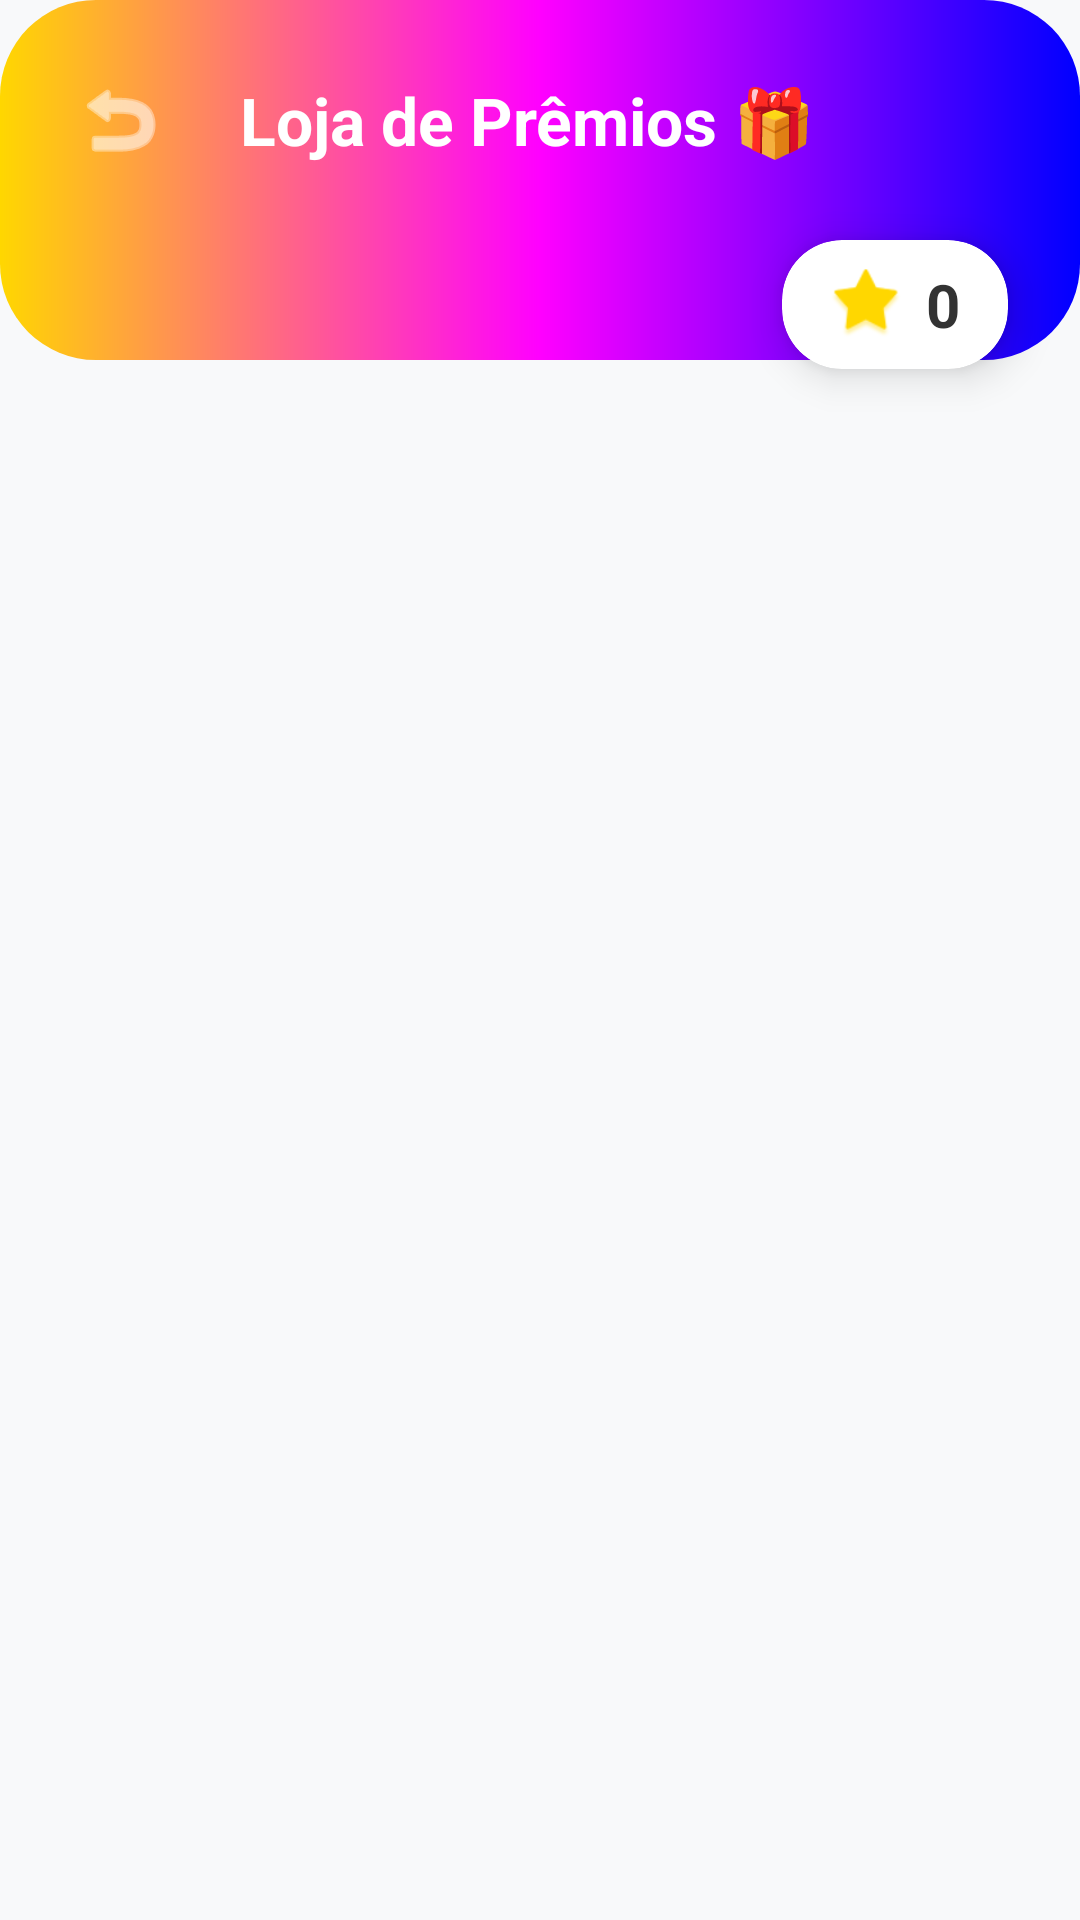

Named icons in this screenshot (1080px x 1920px) and their bounding boxes, (x1, y1, x2, y2):
star on: (834, 269, 898, 334)
